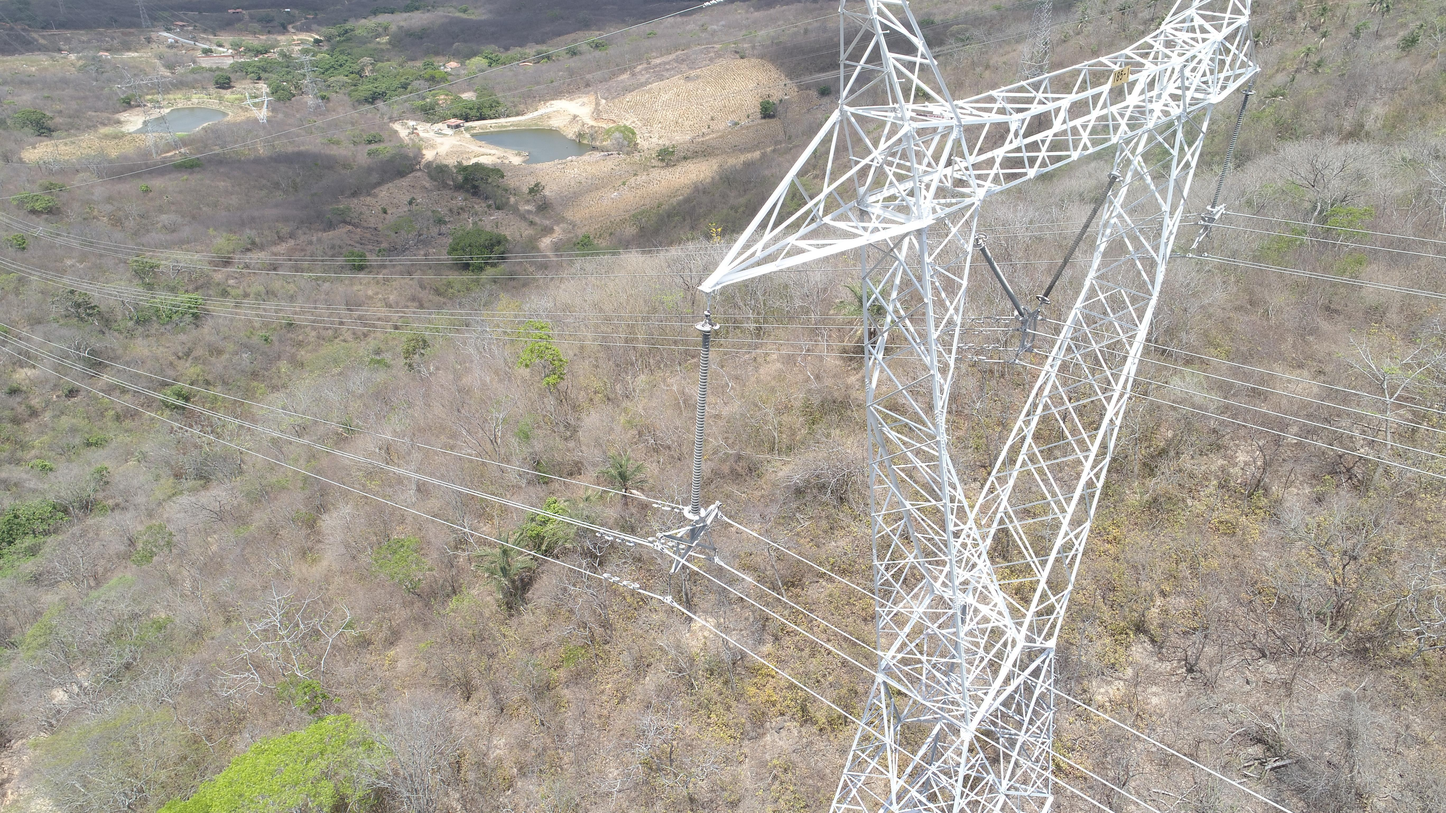power_tower: (687, 1, 1263, 813), (110, 59, 194, 168), (1011, 1, 1059, 98), (294, 53, 332, 113), (239, 82, 279, 131), (131, 0, 158, 43)
